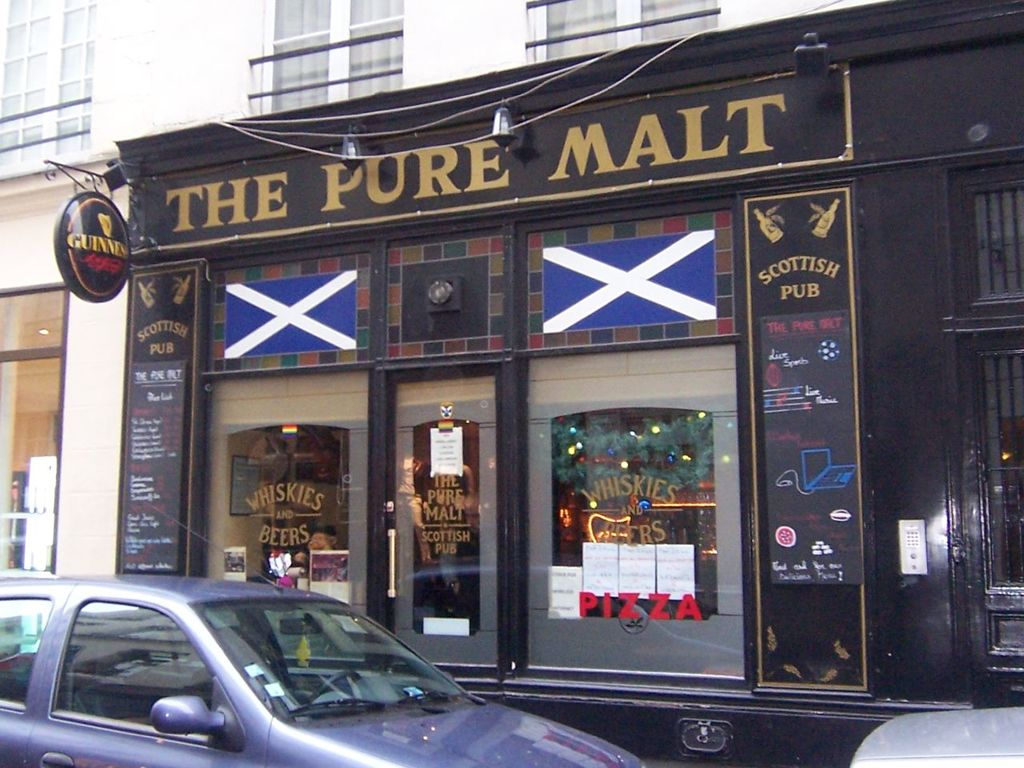Car: (0, 577, 655, 765), (851, 706, 1023, 766)
